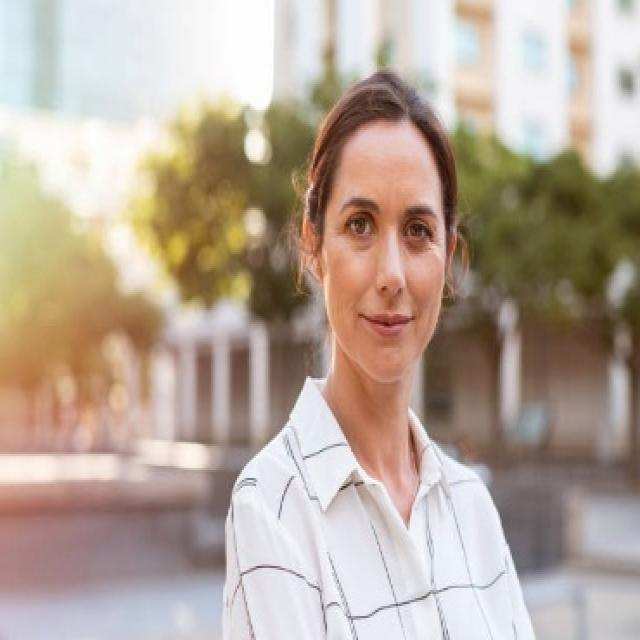adult: (207, 67, 544, 640)
